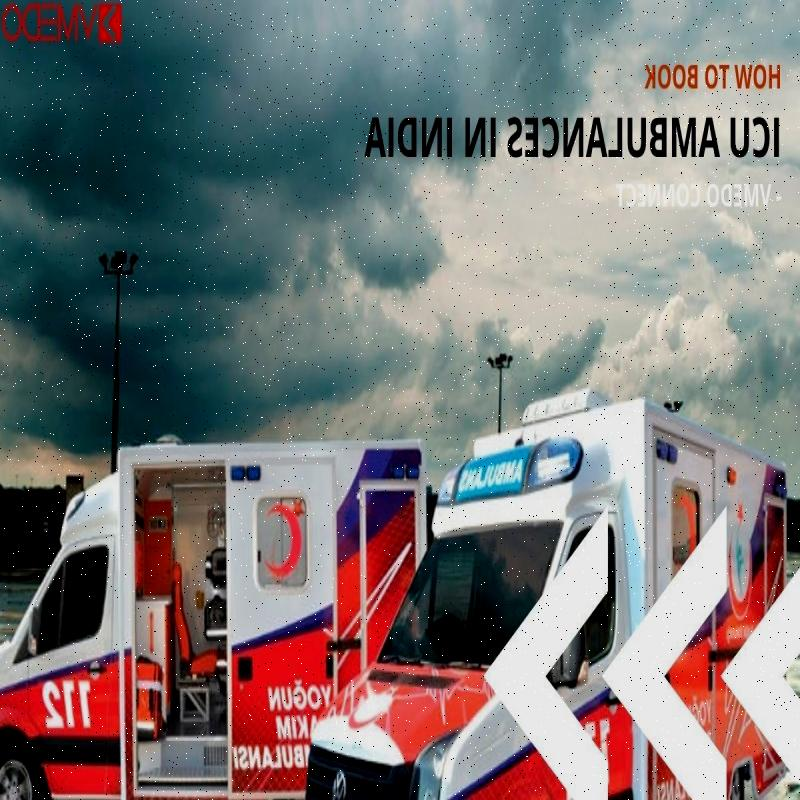ambulance: (302, 404, 792, 800), (0, 414, 413, 800)
